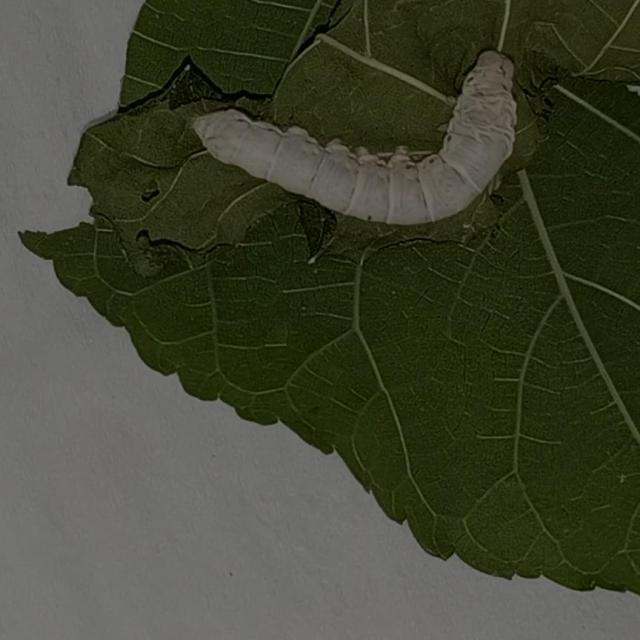Healthy: (179, 39, 533, 246)
